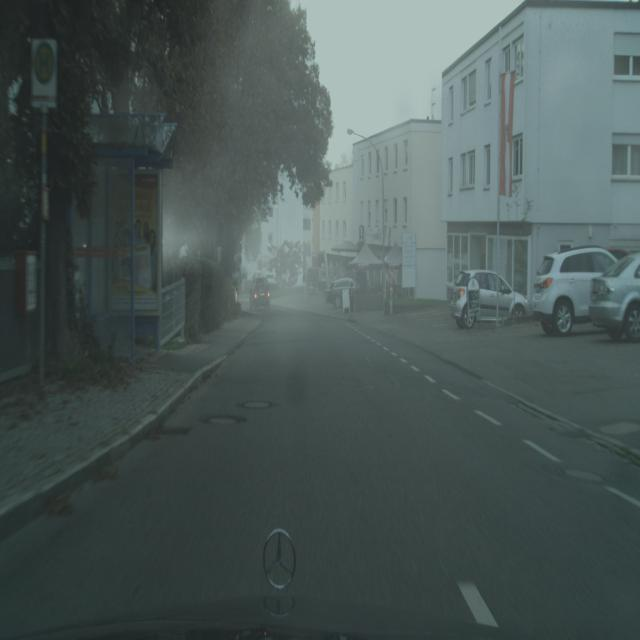person: (532, 247, 618, 337), (450, 268, 532, 328), (588, 251, 640, 342), (326, 278, 356, 308), (249, 275, 270, 312)
